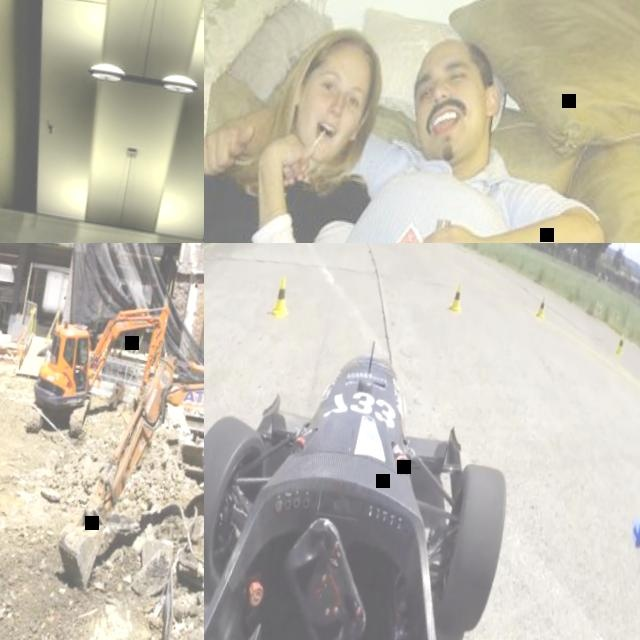NO-Hardhat: (307, 23, 389, 80), (416, 35, 491, 77)
NO-Mask: (410, 73, 500, 167), (286, 95, 360, 166)
NO-Safety Vest: (298, 125, 550, 243), (204, 132, 363, 243)
Person: (204, 0, 637, 243), (204, 0, 398, 243)
Safety Cone: (265, 276, 294, 322), (627, 472, 640, 562), (445, 284, 463, 321), (533, 296, 548, 326), (611, 333, 626, 361)
machinery: (46, 357, 204, 632), (20, 284, 172, 459), (0, 243, 29, 331)
vehicle: (204, 306, 565, 640)
